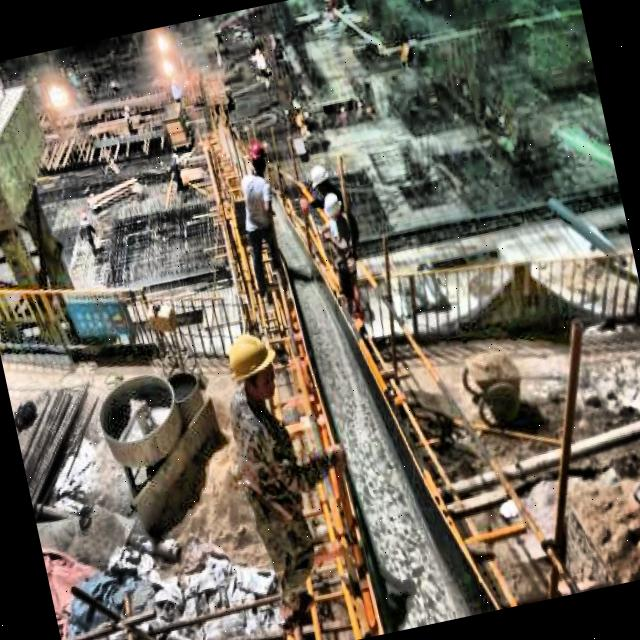helmet: (218, 320, 285, 406), (302, 157, 332, 200), (244, 136, 274, 178), (318, 187, 346, 225)
